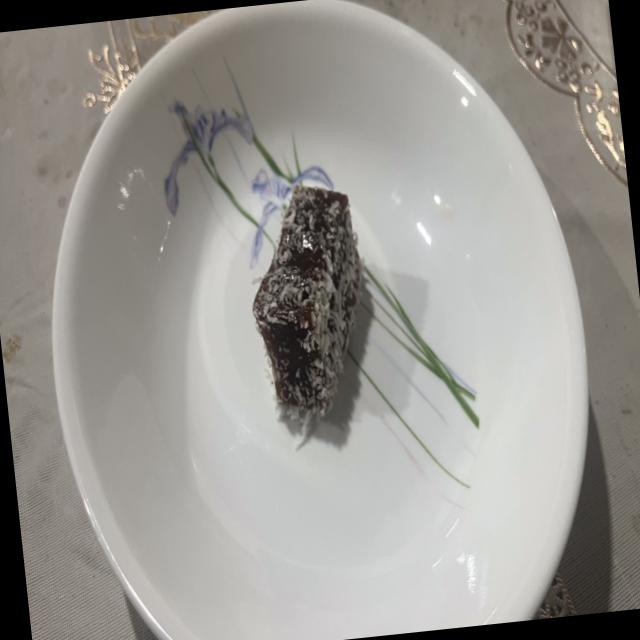kaswi: (252, 185, 362, 416)
